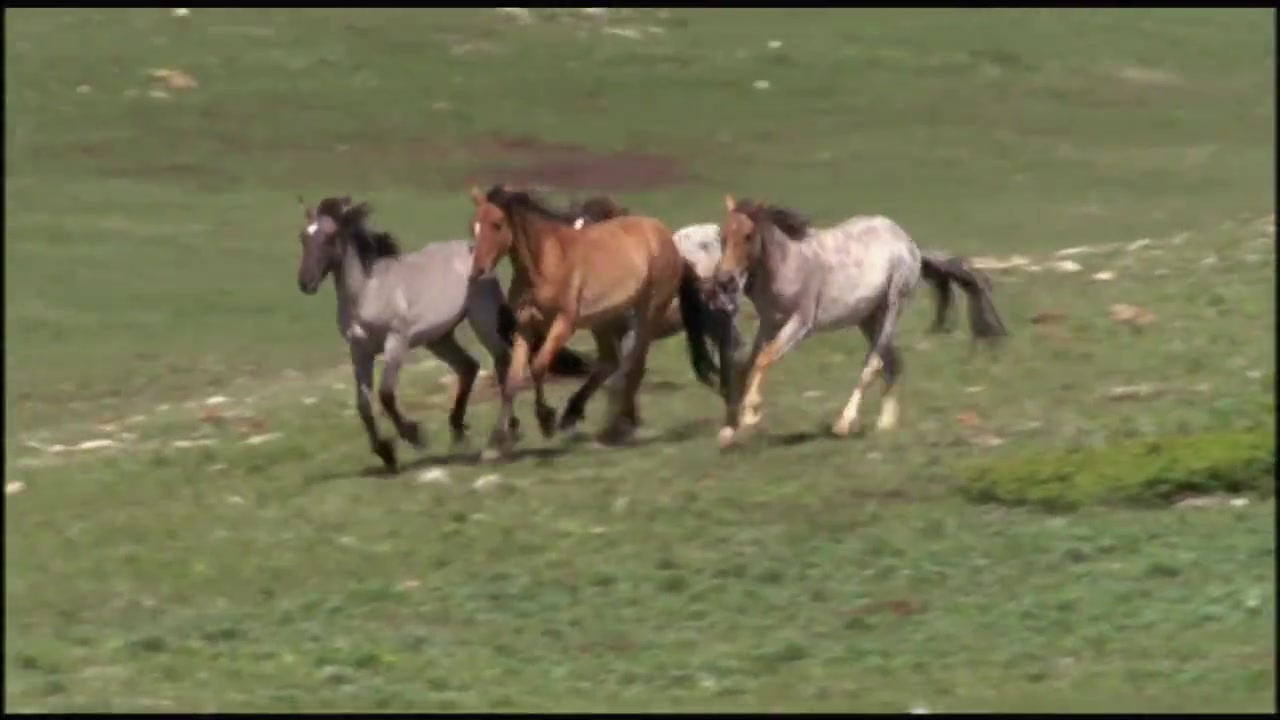horse: (708, 190, 1010, 448)
